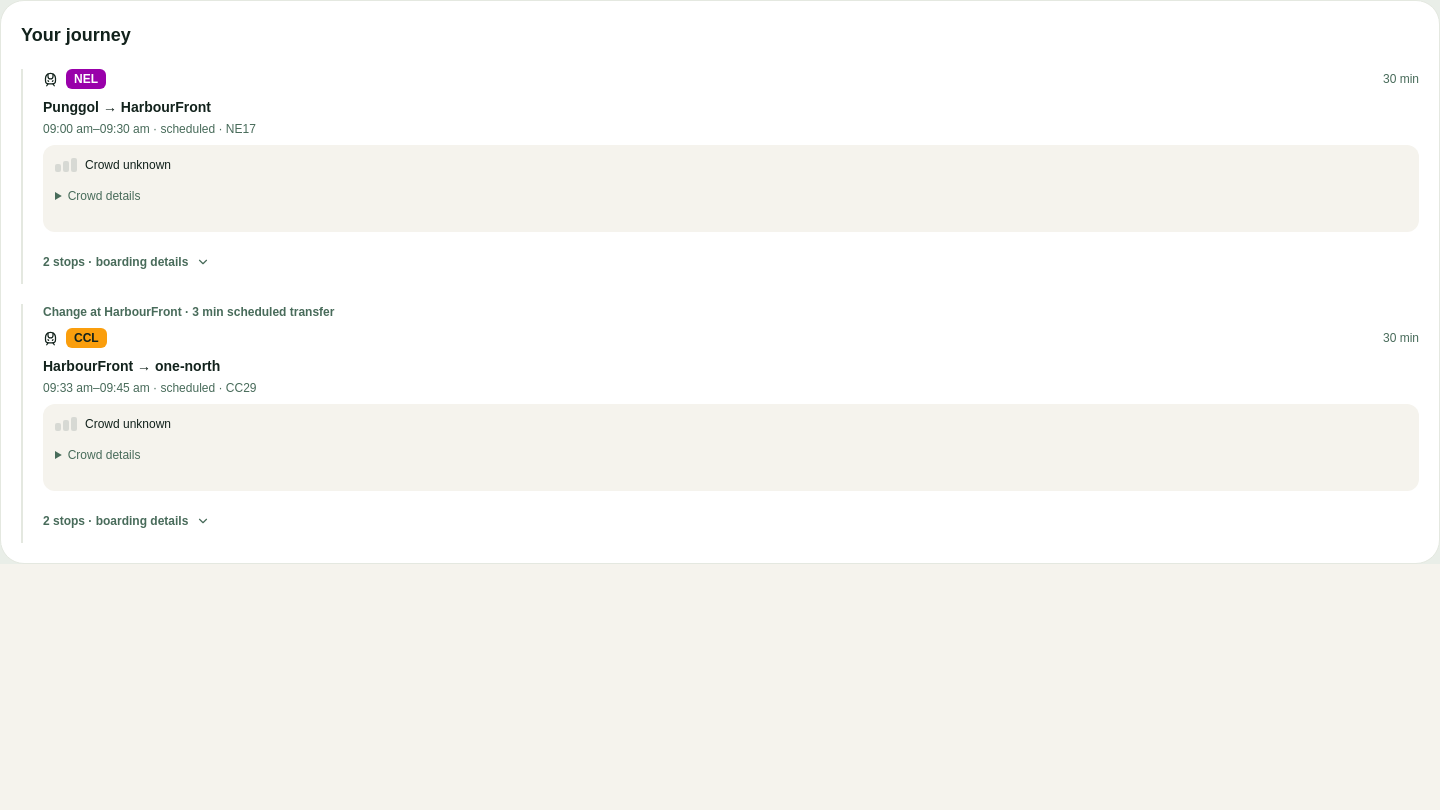
Test case: gives specific boarding/alighting, transfer and current station crowd information
This screenshot has width=1440, height=810.
Check: the text "Change at HarbourFront · 3 min scheduled transfer" is shown, box [43,305,334,319]
Click the heading "2 stops · boarding details" below "NEL" at coordinates (127, 262), box [43,255,210,269]
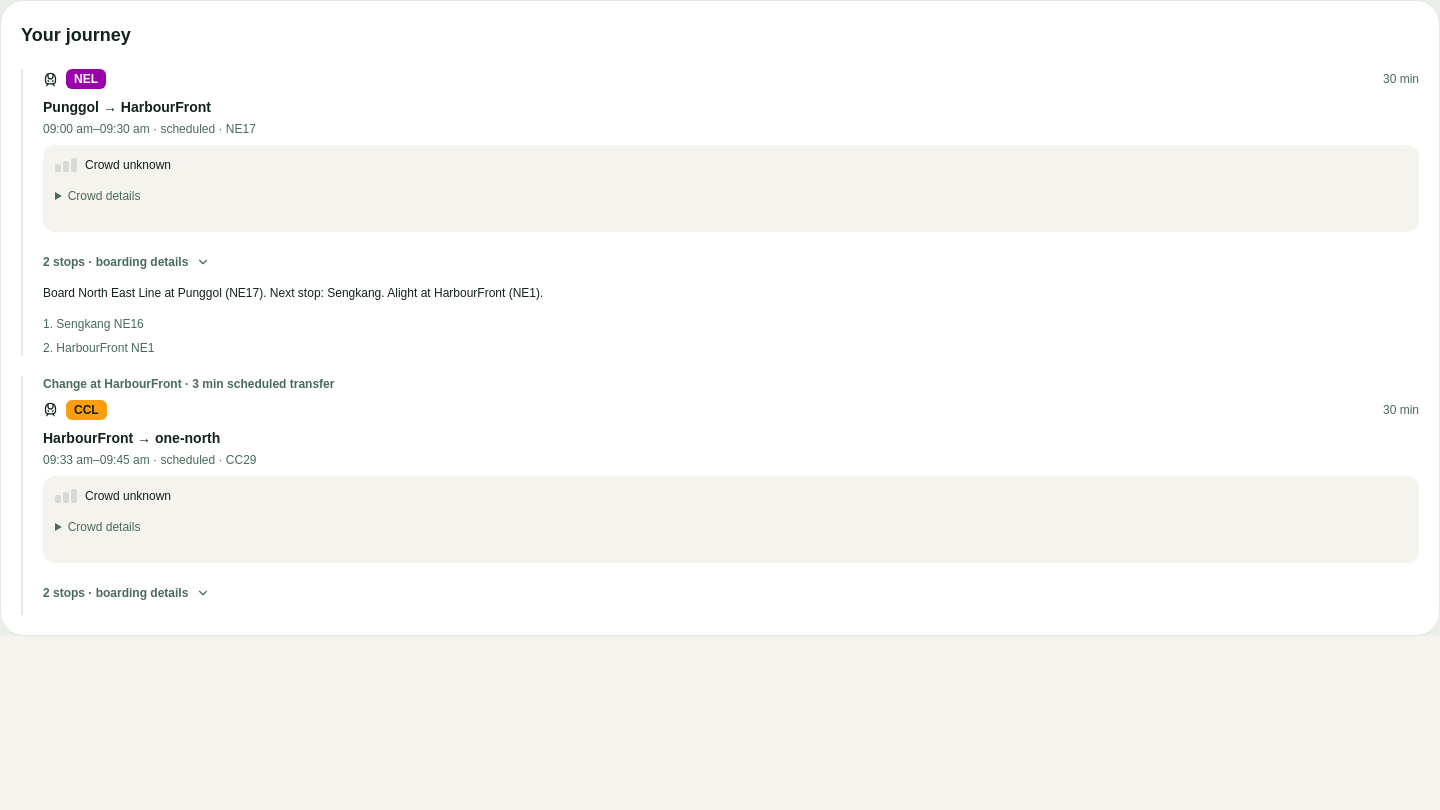
Check: the text "Board North East Line at Punggol" is shown, box [43,286,543,300]
